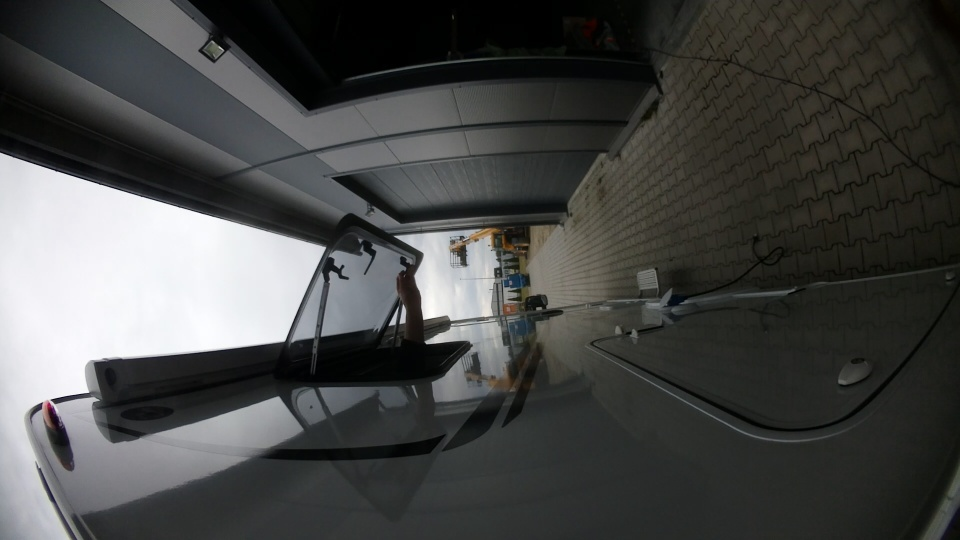step_back: (630, 262, 664, 297)
window_back: (273, 203, 462, 391)
